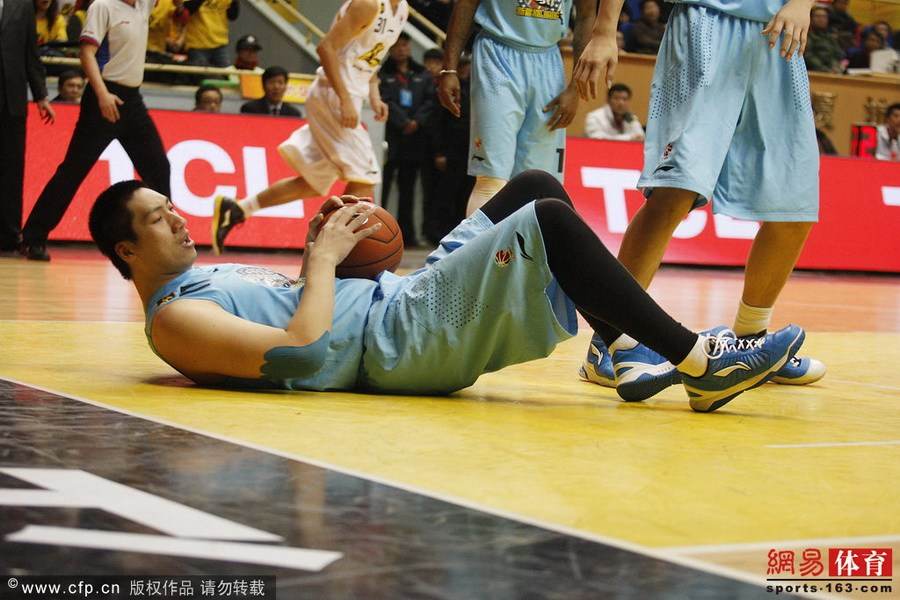10+: (4, 1, 899, 417)
down: (74, 165, 807, 416)
